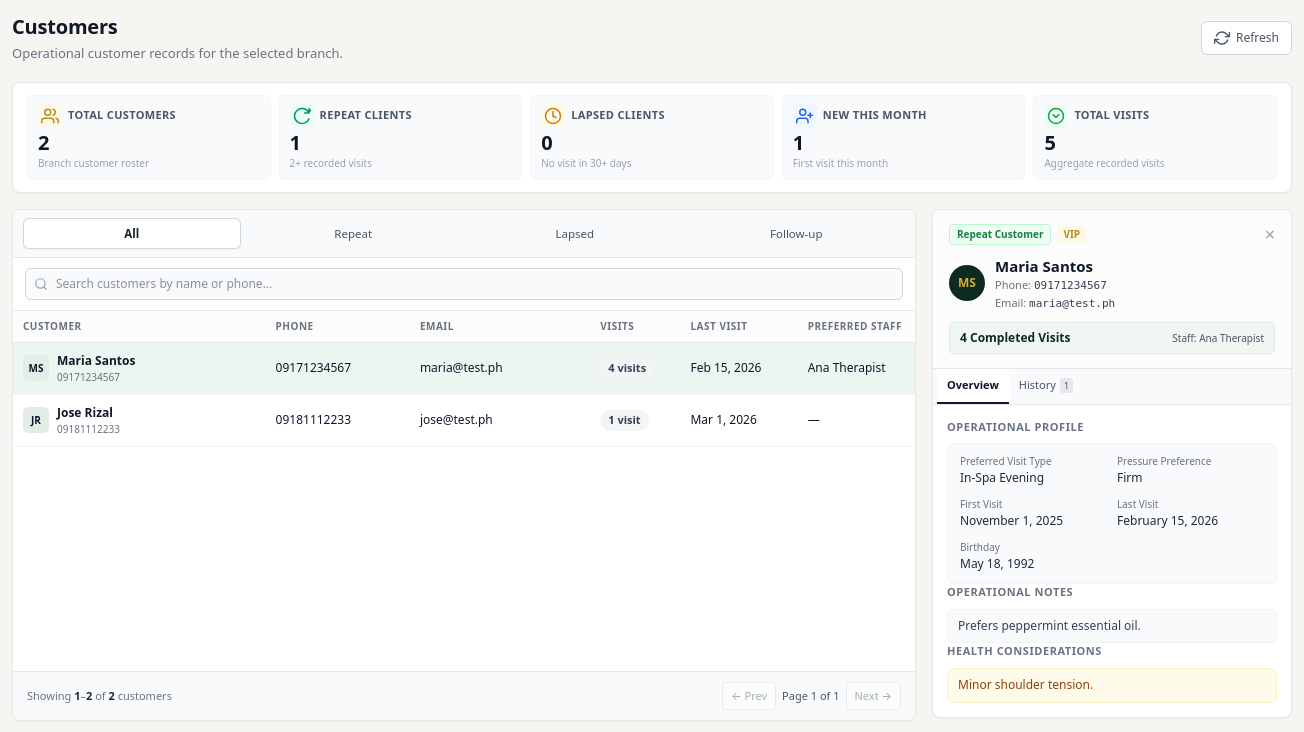
Test: Customers Workspace Component Suite › switches tabs to Follow-up and displays waitlist entries and follow-up inspector
This screenshot has width=1304, height=732.
# Click Follow-up tab
Click the tab "Follow-up" at [796, 233], box left=688, top=218, right=905, bottom=249
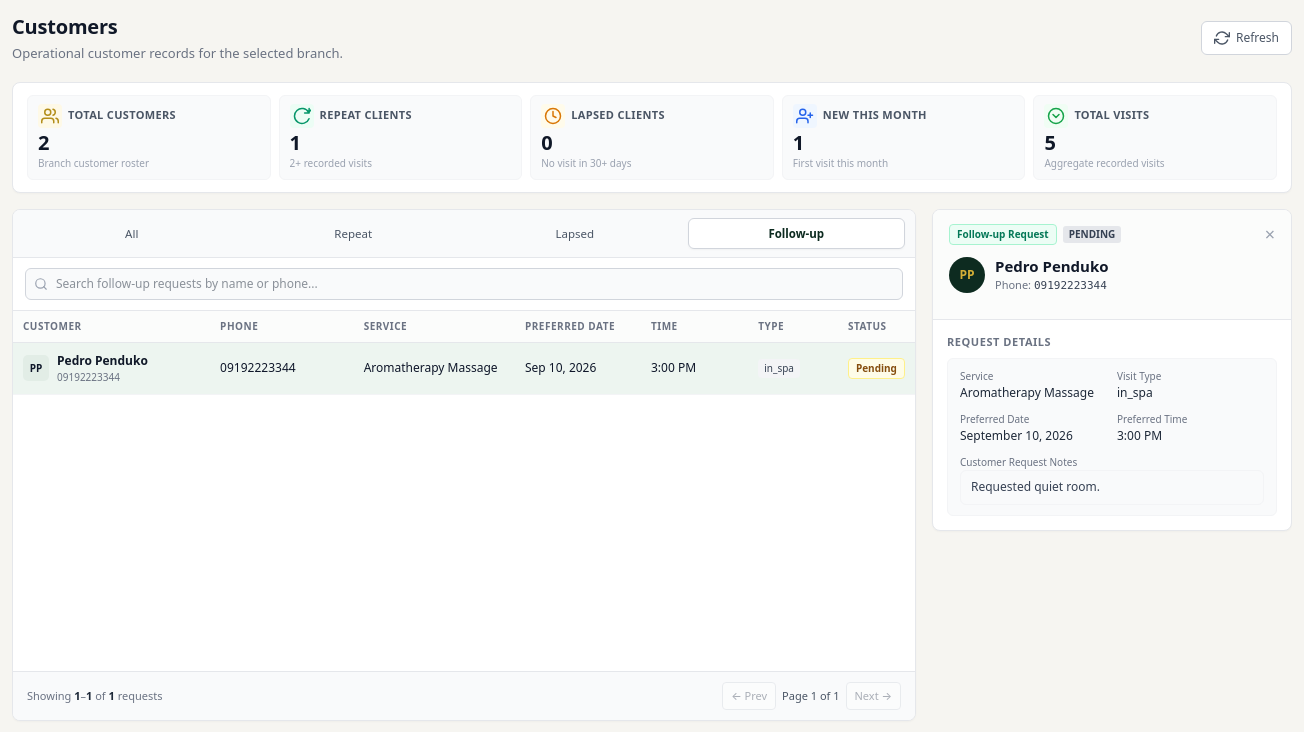
Check: the element named "Follow-up Details Inspector" is shown, box left=932, top=208, right=1292, bottom=531
Check: the text "Requested quiet room." is shown, box left=960, top=470, right=1264, bottom=505
